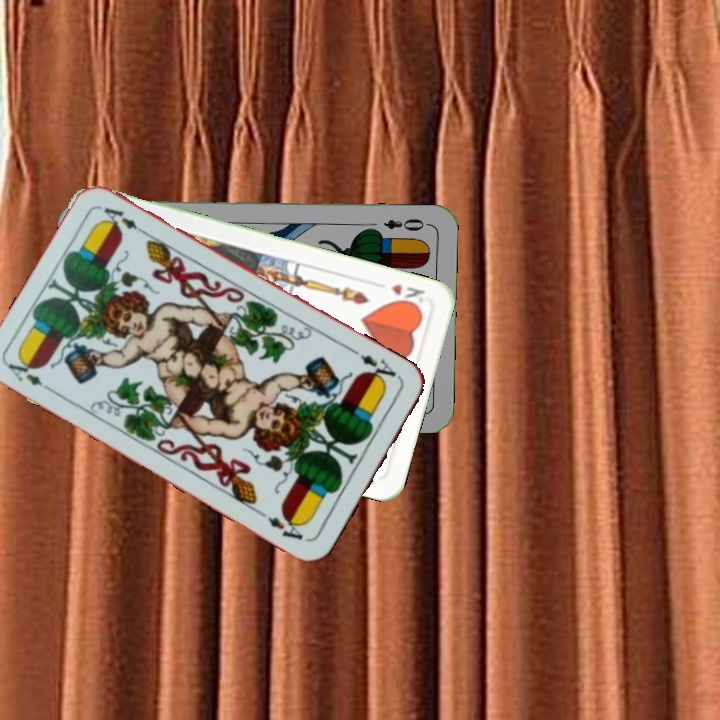EA: (4, 353, 58, 396), (350, 346, 404, 387)
EO: (380, 214, 432, 233)
HK: (387, 279, 427, 310)
